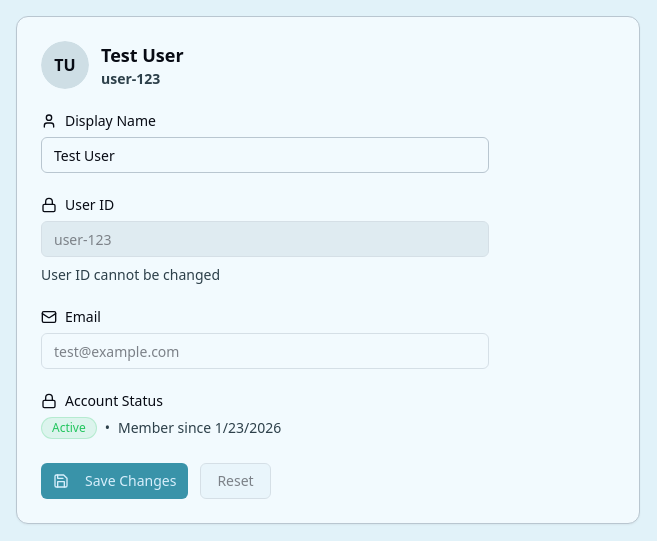
Profile Page › Reset Button › should be enabled after modifications
This screenshot has width=657, height=541.
Replace the text in the field labelled "Display Name" with "New Name" at (265, 155), box [41,137,489,173]
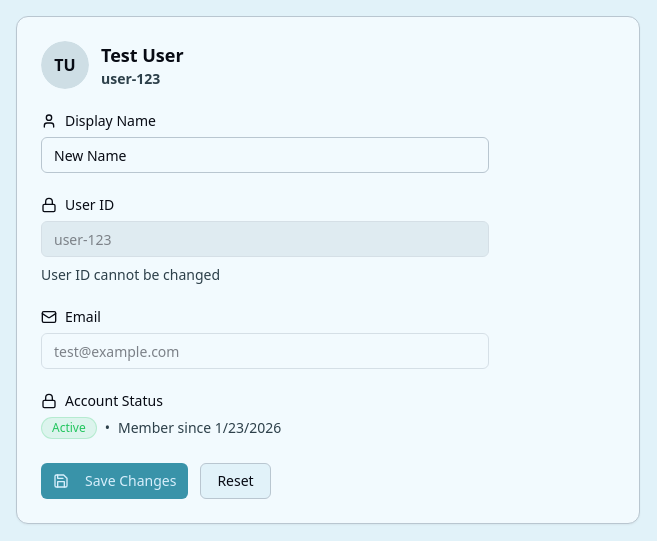
Expected: the button "Reset" is enabled, [200,463,271,499]
